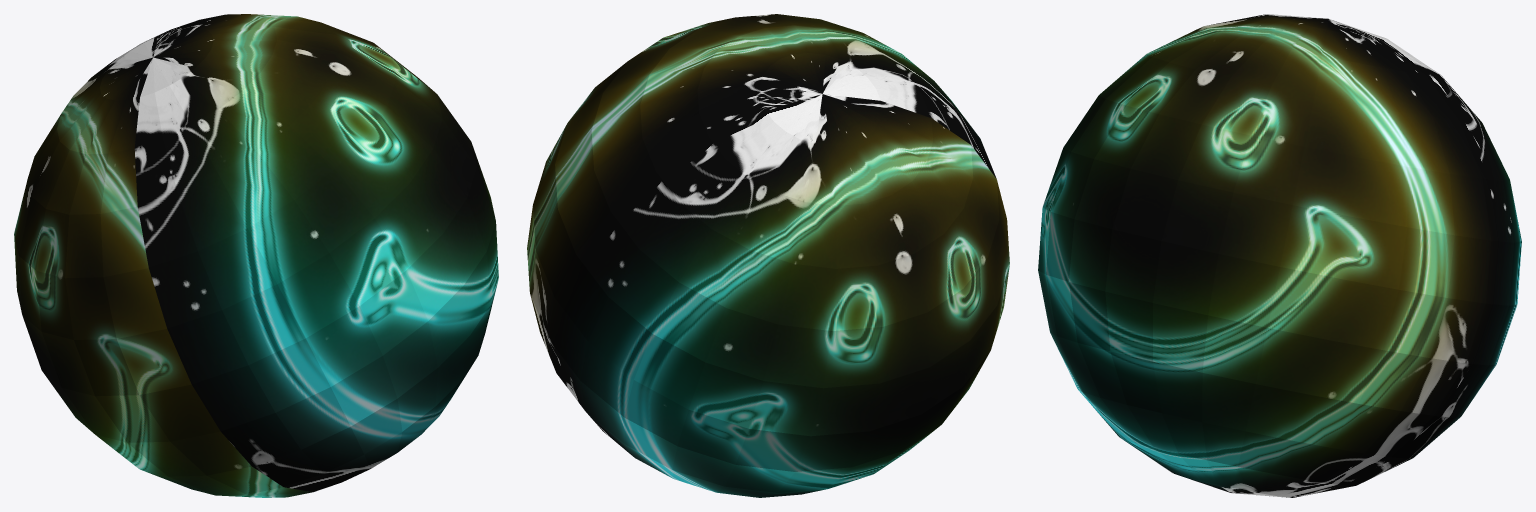
3 views of the same model, side by side, from view 1: azimuth 30°, elevation 25°; view 2: azimuth 150°, elevation 25°; view 3: azimuth 270°, elevation 25° (orthographic).
Visible parts, largest first — view 1: Sphere; view 2: Sphere; view 3: Sphere.
Part boxes in pixels (left/top/right/bottom): Sphere: left=14, top=14, right=498, bottom=497; Sphere: left=527, top=14, right=1009, bottom=497; Sphere: left=1038, top=14, right=1521, bottom=497.
Bounding box in the file's own units: 198 × 199 × 200.
1 material, 1 textured.
